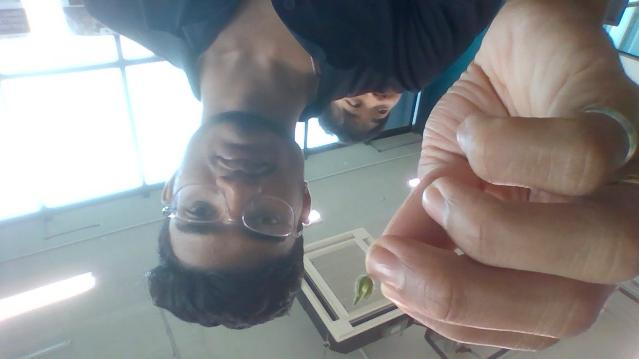Fruit Bud: (353, 275, 373, 306)
